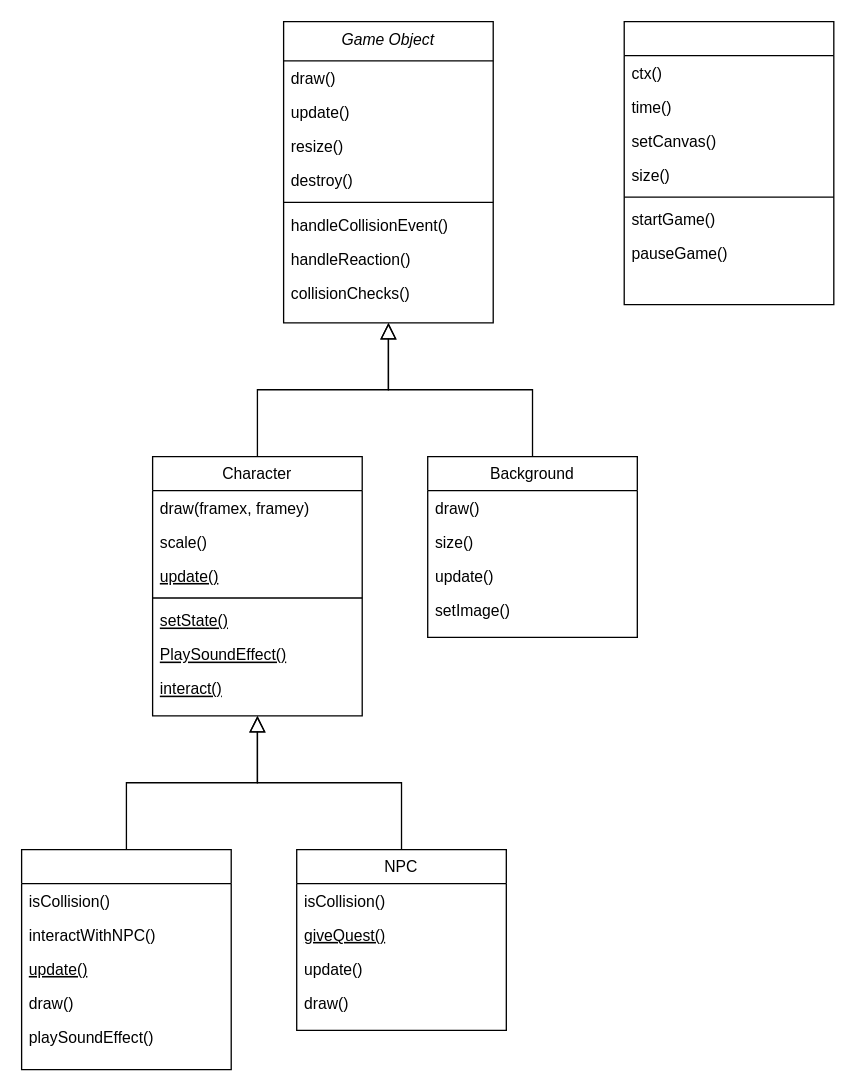
Some shapes in this 855 by 1091 pixel diagram are drawn without their labels. Each missing label, with the box of its shape:
Game environment: (623, 20, 834, 305)
PlayableCharacter: (20, 848, 231, 1070)
